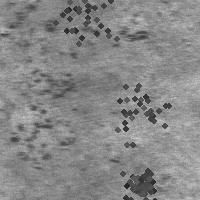rolled-in_scale: (5, 45, 79, 183), (98, 68, 178, 148), (37, 0, 121, 62), (63, 16, 162, 56), (1, 1, 59, 56), (115, 157, 165, 200)
